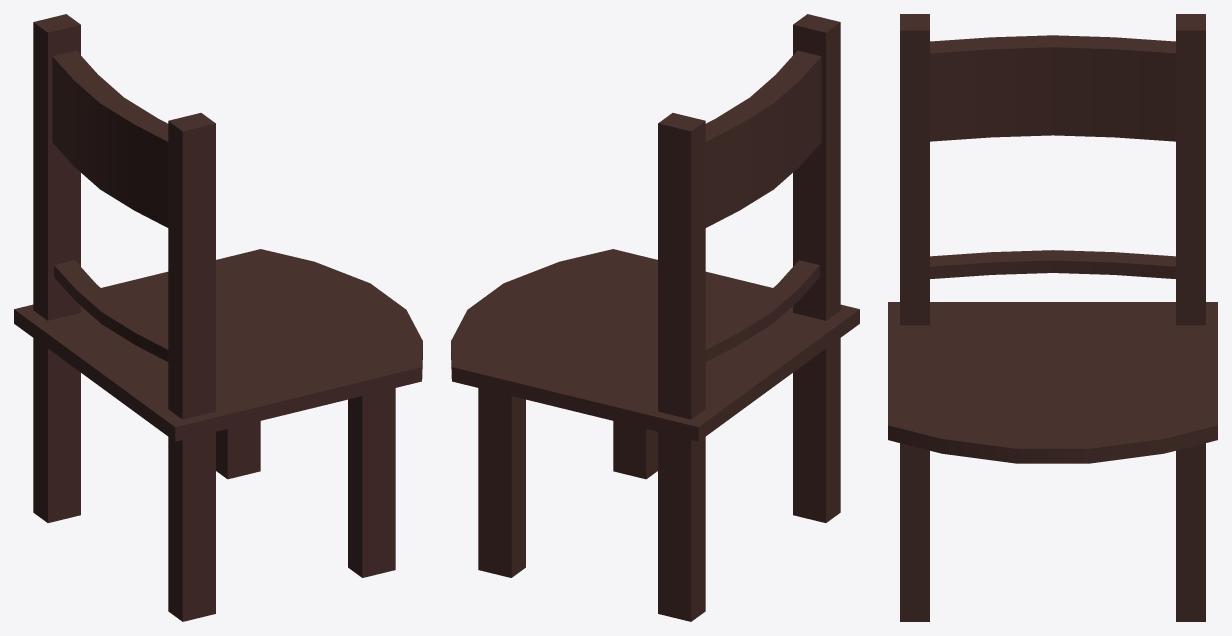
Rendered from NewChair.fbx.
3 views of the same model, side by side, from view 1: azimuth 30°, elevation 25°; view 2: azimuth 150°, elevation 25°; view 3: azimuth 270°, elevation 25° (orthographic). The views are drawn at different scales.
Visible parts, largest first — view 1: Chair; view 2: Chair; view 3: Chair.
Boxes of the visible parts, x1,y1,x2,y2 form: Chair: (14, 14, 422, 621); Chair: (451, 14, 859, 621); Chair: (888, 14, 1217, 621).
Bounding box in the file's own units: 27.05 × 43.16 × 25.72.
Materials: 1 (1 with a texture image).
